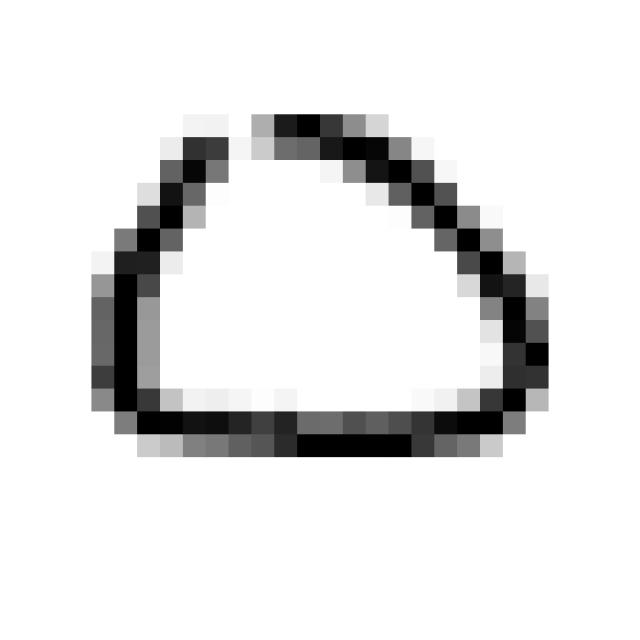5 -five-: (69, 87, 574, 482)
